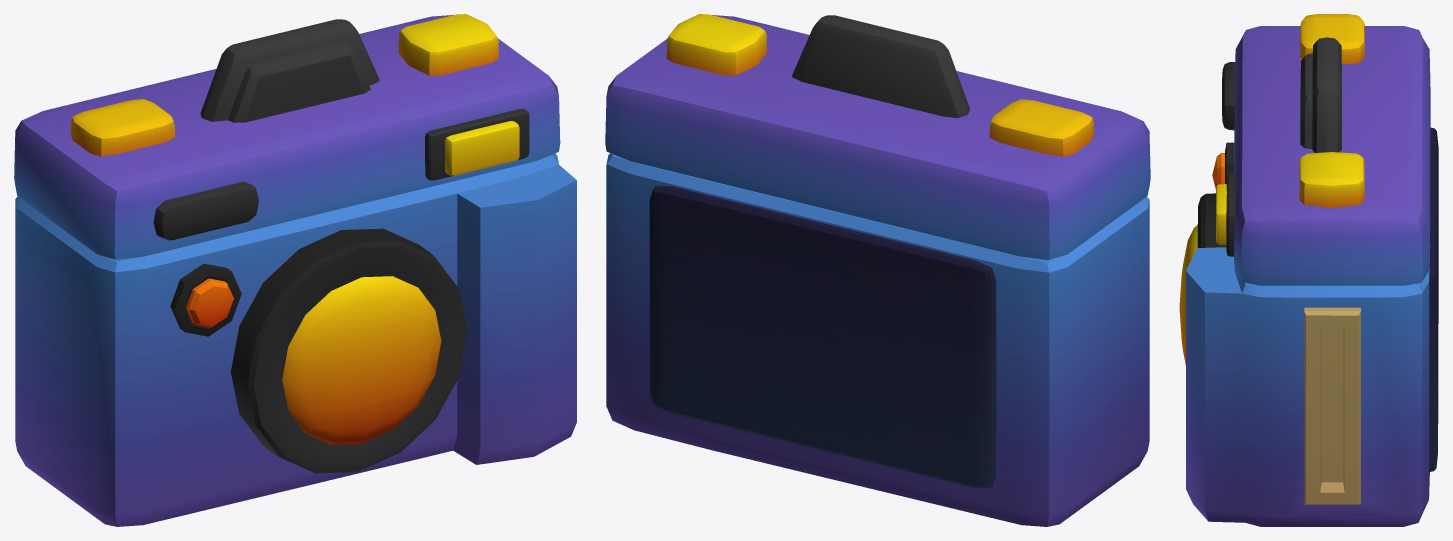
Rendered from camera.glb.
The picture shows the model from 3 angles, left to right: view 1: azimuth 30°, elevation 25°; view 2: azimuth 150°, elevation 25°; view 3: azimuth 270°, elevation 25°; orthographic projection. The views are drawn at different scales.
Parts seen in each view (by area): view 1: instant-camera; view 2: instant-camera; view 3: instant-camera.
Part boxes in pixels (left/top/right/bottom): instant-camera: left=14, top=14, right=576, bottom=526; instant-camera: left=605, top=14, right=1150, bottom=526; instant-camera: left=1179, top=14, right=1438, bottom=526.
Bounding box in the file's own units: 0.8379 × 0.7009 × 0.4406.
1 material, 1 textured.
